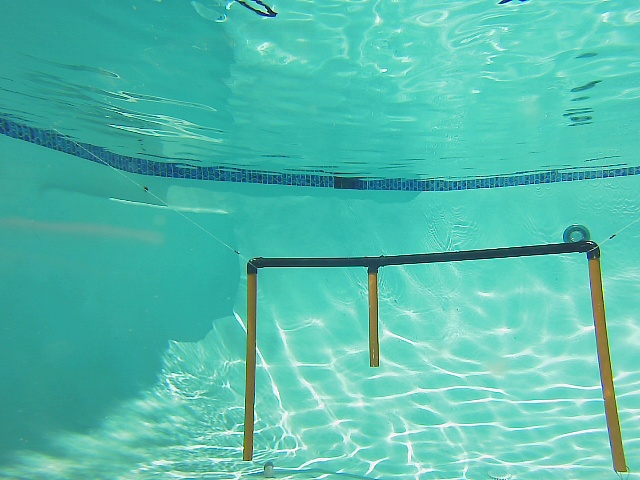Gate: (586, 255, 628, 473), (240, 271, 258, 463), (363, 270, 381, 366)
